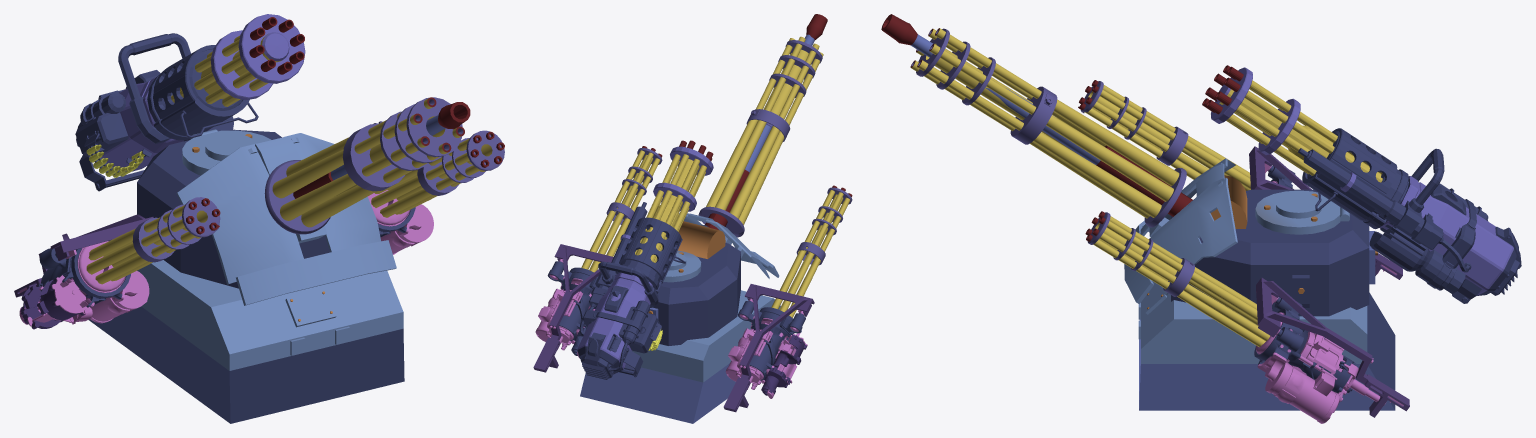
File: Cannon-S-3.fbx
3 views of the same model, side by side, from view 1: azimuth 30°, elevation 25°; view 2: azimuth 150°, elevation 25°; view 3: azimuth 270°, elevation 25° (orthographic). The views are drawn at different scales.
Visible parts, largest first — view 1: pasted__pasted__polySurface268, pasted__Attack, Attack11, pasted__Attack1, Attack10; view 2: pasted__pasted__polySurface268, pasted__Attack, Attack11, pasted__Attack1, Attack10; view 3: pasted__pasted__polySurface268, pasted__Attack, Attack10, pasted__Attack1, Attack11.
Boxes of the visible parts, x1,y1,x2,y2 form: pasted__pasted__polySurface268: (88,129,404,423); pasted__Attack: (75,14,305,191); Attack11: (14,197,220,329); pasted__Attack1: (264,97,470,234); Attack10: (367,130,504,254); pasted__pasted__polySurface268: (580,213,780,423); pasted__Attack: (577,140,713,379); Attack11: (723,185,852,412); pasted__Attack1: (698,14,827,237); Attack10: (533,146,662,372); pasted__pasted__polySurface268: (1124,158,1395,410); pasted__Attack: (1202,65,1521,303); Attack10: (1085,211,1409,423); pasted__Attack1: (881,14,1192,227); Attack11: (1078,80,1402,279).
Size of the model in its own units: 6.02 by 5.99 by 9.7.
